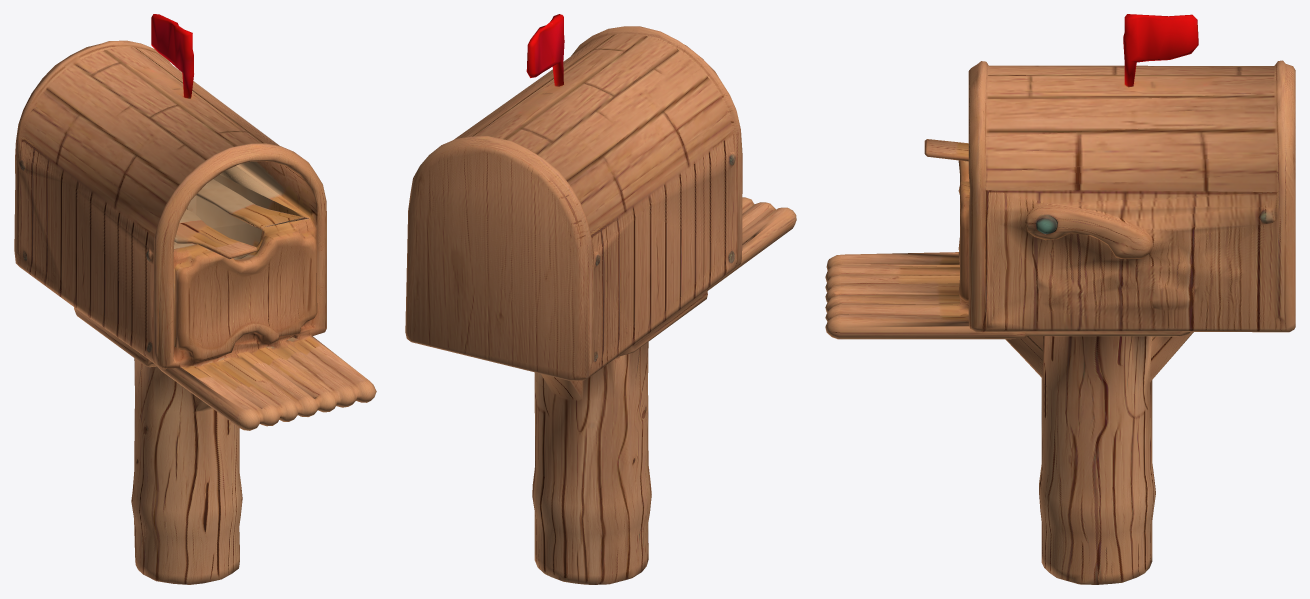
The model's file is mailbox.glb.
The picture shows the model from 3 angles, left to right: view 1: azimuth 30°, elevation 25°; view 2: azimuth 150°, elevation 25°; view 3: azimuth 270°, elevation 25°; orthographic projection. The views are drawn at different scales.
Size of the model in its own units: 0.6967 by 1.91 by 1.46.
Materials: 1 (1 with a texture image).
